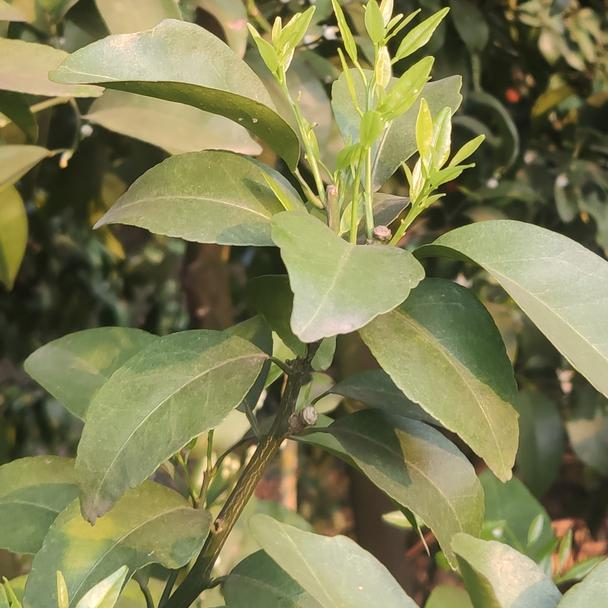shoot: (332, 3, 441, 155), (393, 100, 477, 241), (246, 7, 325, 146)
